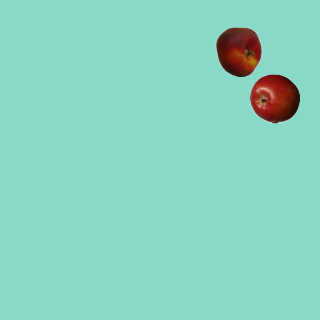Apple Braeburn: (249, 73, 299, 123)
Nectarine Flat: (213, 26, 263, 76)
